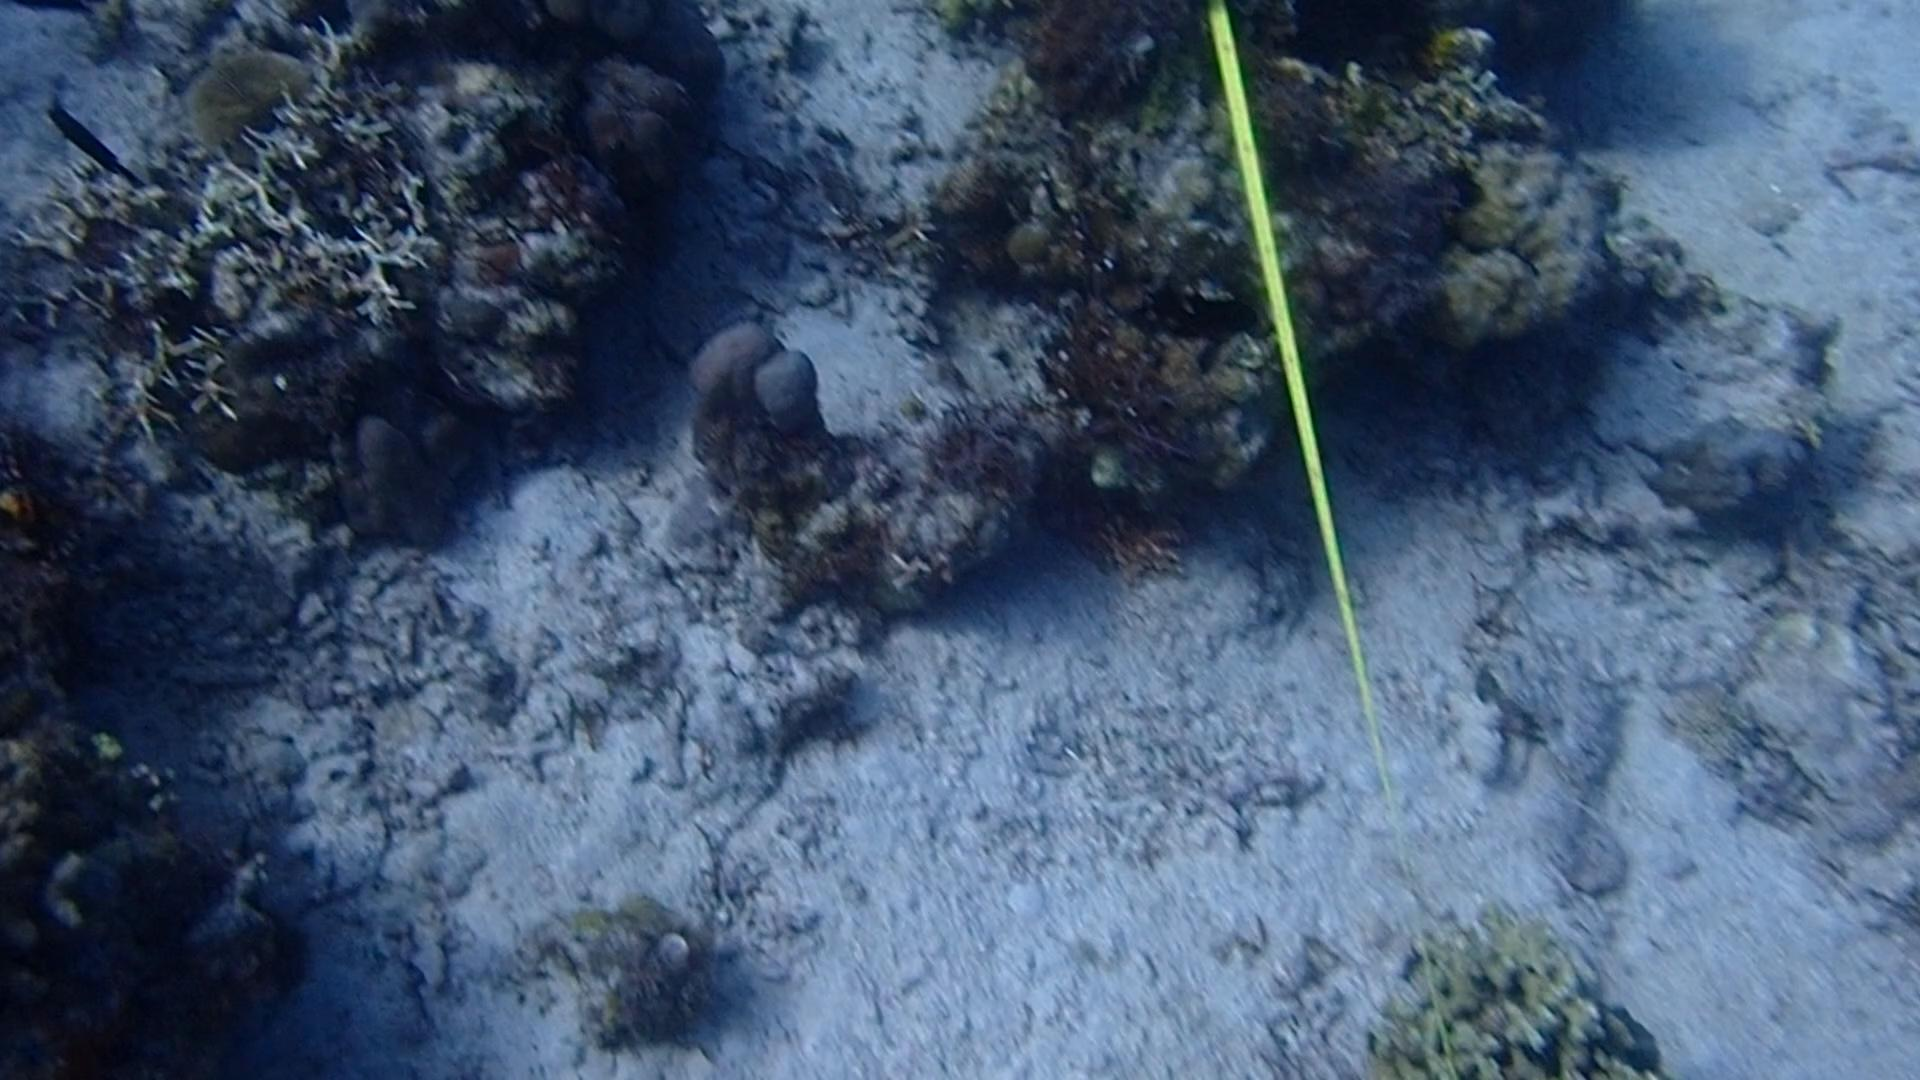Dark Fish: (33, 88, 152, 207), (1150, 278, 1269, 364)
